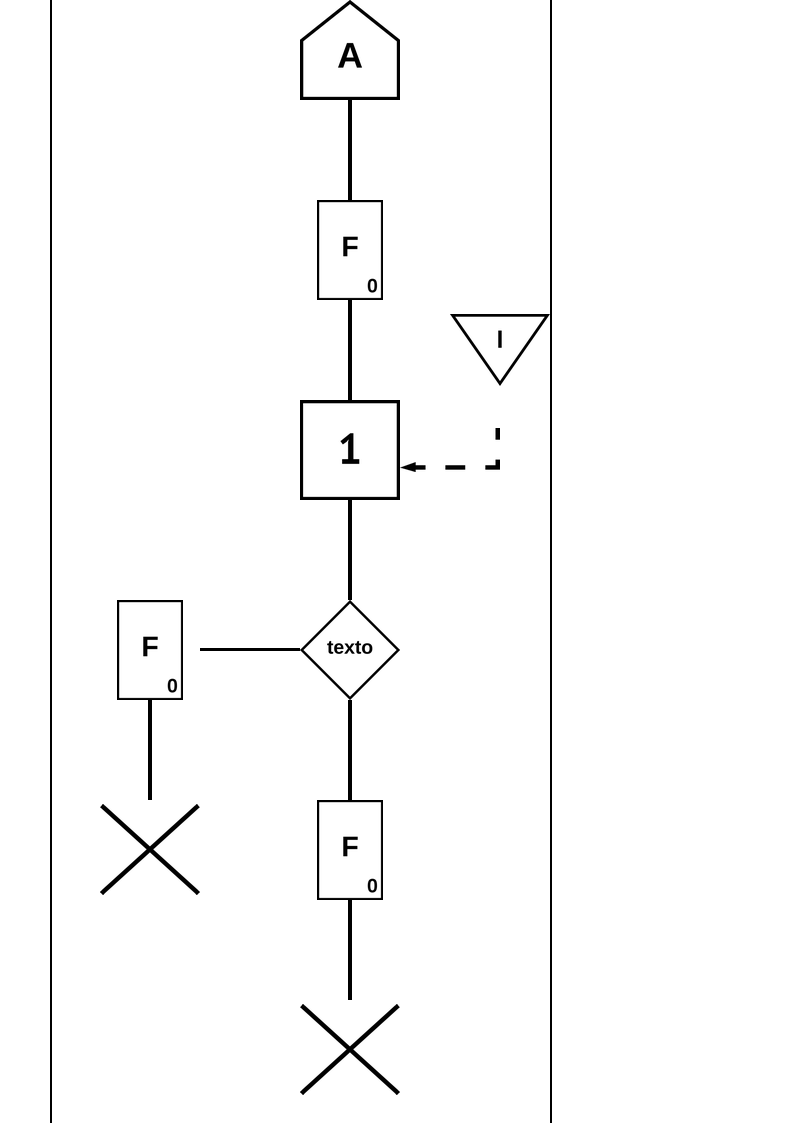archivoTransitorio: (450, 314, 550, 386)
conector_reanudacionCorte: (300, 0, 400, 100)
consultaLogica_flecha: (400, 428, 500, 472)
control: (300, 400, 400, 500)
decision: (300, 600, 400, 700)
destruccion: (300, 1004, 400, 1095), (100, 804, 200, 895)
documento: (317, 200, 383, 300), (317, 800, 383, 900), (117, 600, 183, 700)
trasladoDeInformacion_horizontal: (200, 628, 300, 671)
trasladoDeInformacion_vertical: (328, 100, 372, 200), (328, 300, 372, 400), (328, 500, 372, 600), (328, 700, 372, 800), (328, 900, 372, 1000), (128, 700, 172, 800)
